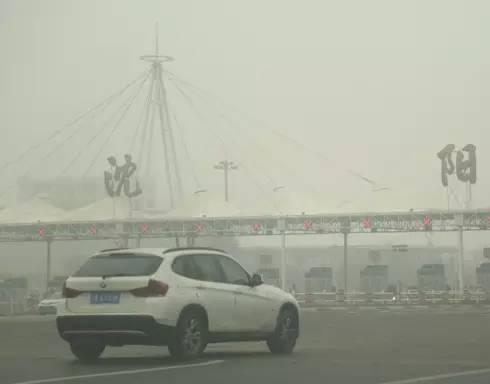car: (54, 244, 301, 362), (36, 288, 77, 318)
